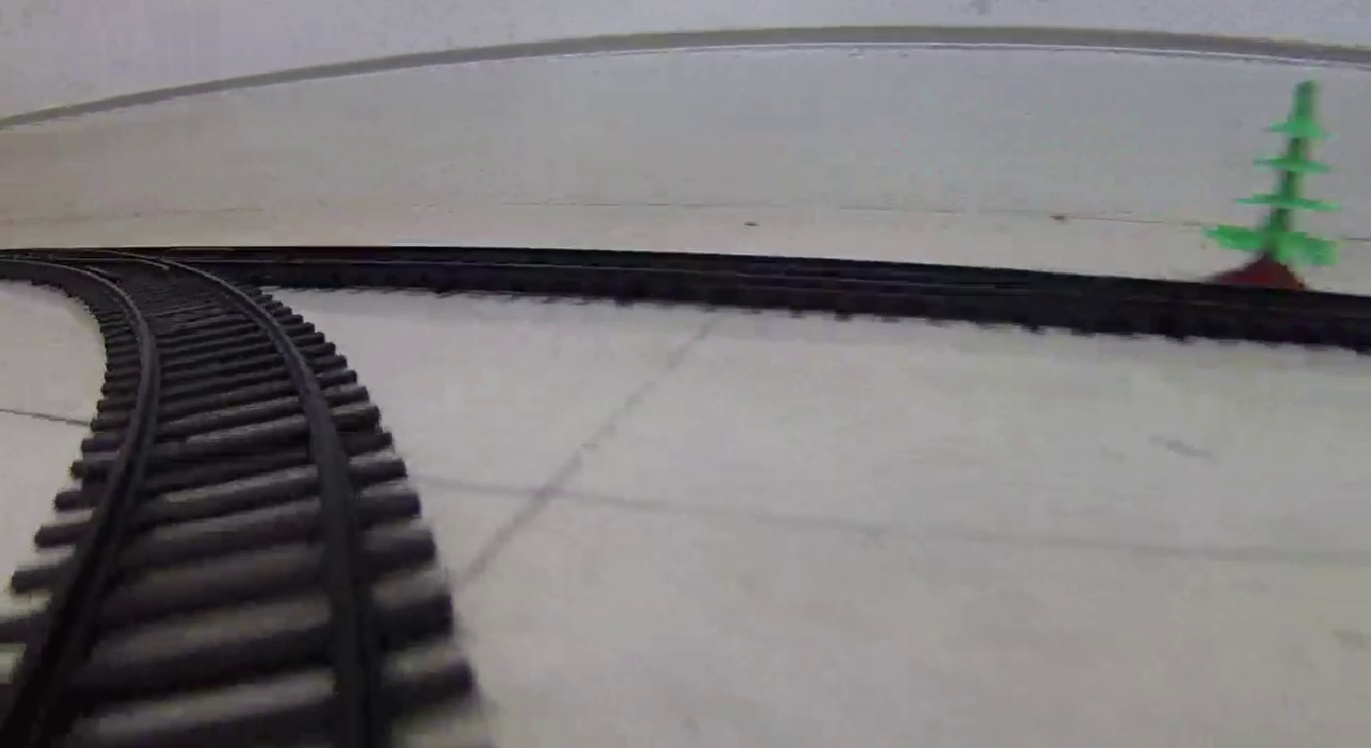tree: (1201, 81, 1342, 285)
